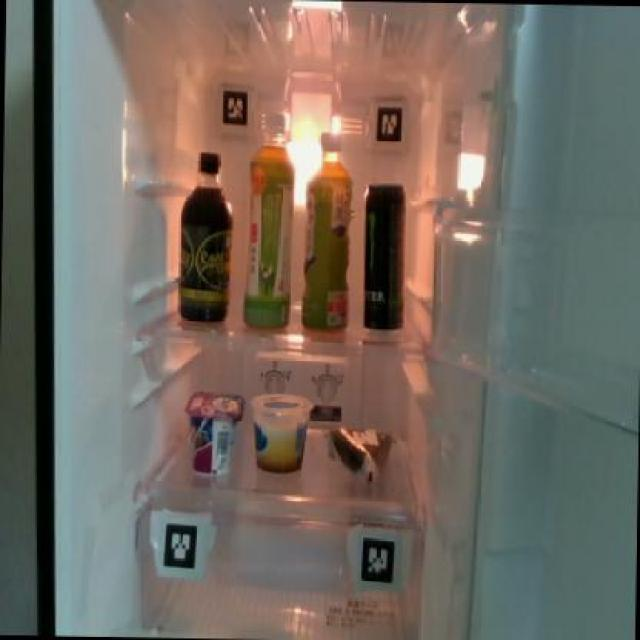coffee: (173, 148, 234, 324)
energy_drink: (358, 180, 408, 331)
pudding: (247, 388, 307, 476)
rice_ball: (322, 423, 393, 482)
tea_a: (299, 125, 352, 330)
tea_i: (242, 110, 296, 330)
yogurt: (183, 386, 243, 479)
